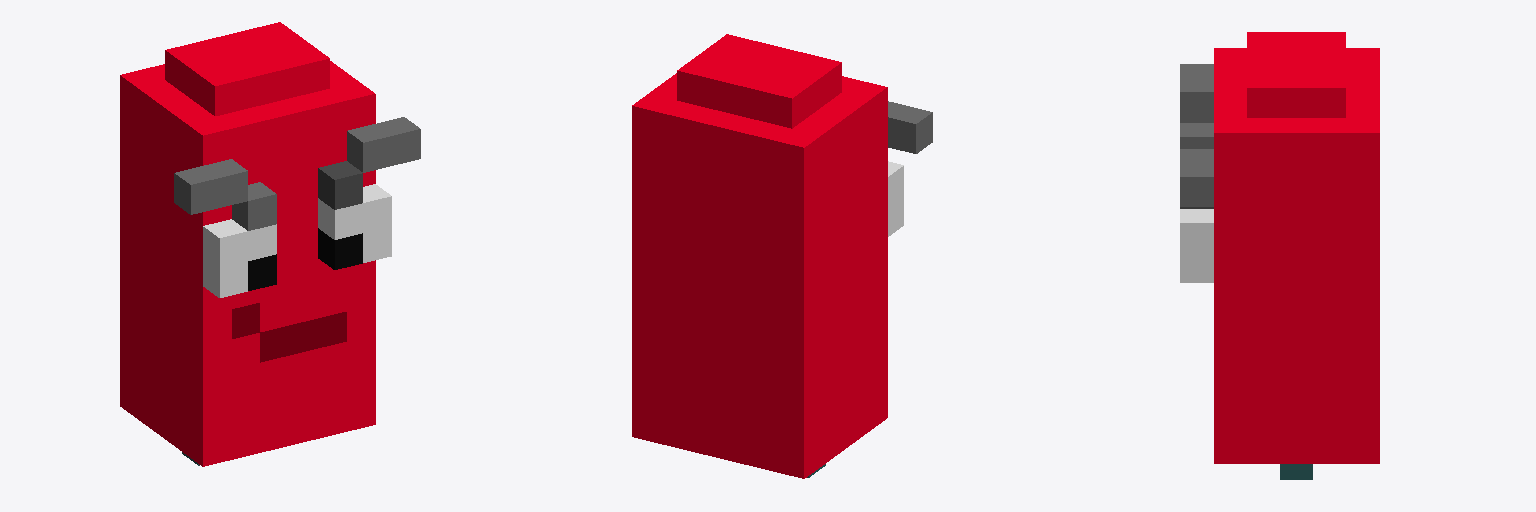
The picture shows the model from 3 angles: view 1: azimuth 30°, elevation 25°; view 2: azimuth 150°, elevation 25°; view 3: azimuth 270°, elevation 25°; orthographic projection.
Visible parts, largest first — view 1: object 1; view 2: object 1; view 3: object 1.
Boxes of the visible parts, x1=… form: object 1: x1=120, y1=22, x2=420, y2=466; object 1: x1=632, y1=34, x2=932, y2=478; object 1: x1=1180, y1=32, x2=1379, y2=479.
Bounding box in the file's own units: 0.8 × 1.3 × 0.6.
1 materials, 1 textured.